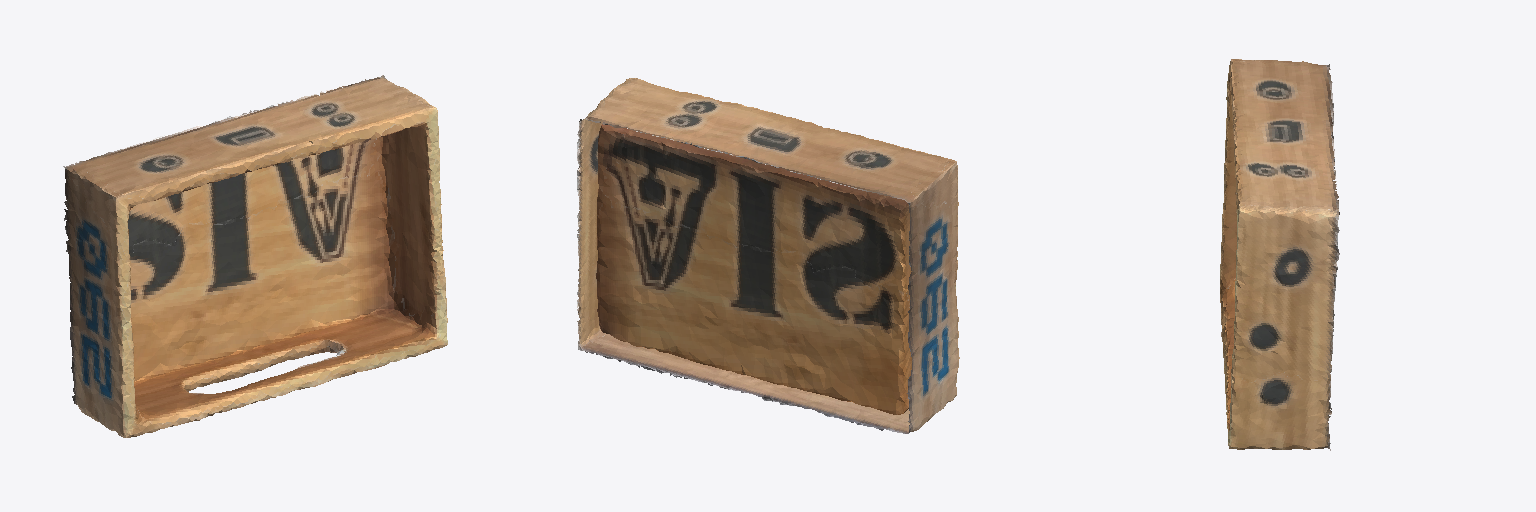
3 views of the same model, side by side, from view 1: azimuth 30°, elevation 25°; view 2: azimuth 150°, elevation 25°; view 3: azimuth 270°, elevation 25° (orthographic).
Bounding box in the file's own units: 0.1603 × 0.1153 × 0.0499.
Materials: 1 (1 with a texture image).